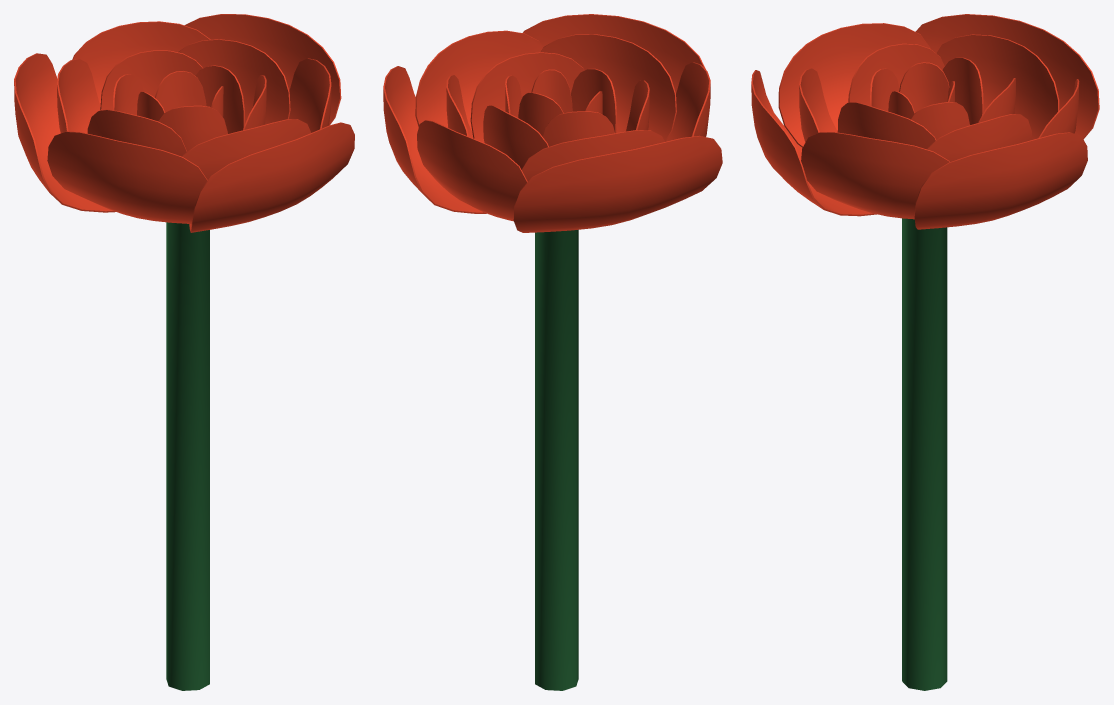
The model's file is Flower1.fbx.
3 renders of one model, left to right at view 1: azimuth 30°, elevation 25°; view 2: azimuth 150°, elevation 25°; view 3: azimuth 270°, elevation 25°, orthographic.
Visible parts, largest first — view 1: Simple_Primitives, Cylinder; view 2: Simple_Primitives, Cylinder; view 3: Simple_Primitives, Cylinder.
Boxes of the visible parts, x1,y1,x2,y2 form: Simple_Primitives: [14, 14, 354, 232]; Cylinder: [166, 222, 209, 690]; Simple_Primitives: [383, 14, 722, 232]; Cylinder: [535, 229, 578, 690]; Simple_Primitives: [751, 14, 1099, 229]; Cylinder: [902, 218, 947, 690].
Bounding box in the file's own units: 452 × 840 × 443.
